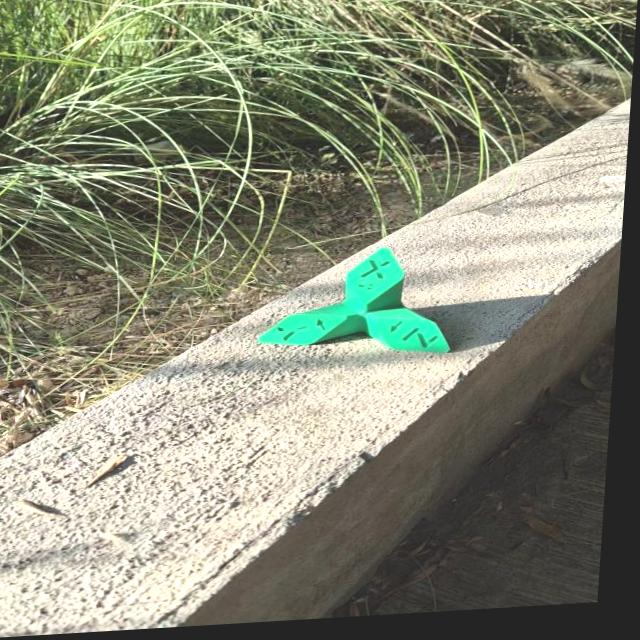eje: (253, 241, 460, 366)
